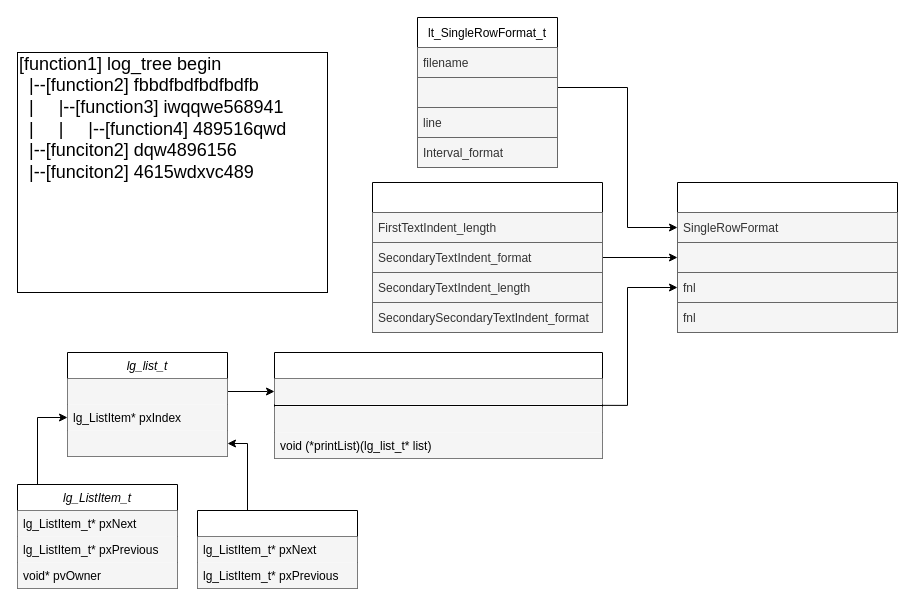
Some shapes in this 915 by 609 pixel diagram are drawn without their labels. Each missing label, with the box of its shape:
Founction_Name_List_t: (274, 352, 602, 458)
function: (416, 76, 558, 108)
lg_list_t list: (274, 378, 602, 404)
lg_MiniListItem_t: (196, 510, 358, 588)
lg_MiniListItem_t ListEnd: (67, 430, 227, 456)
lt_core_t: (676, 182, 898, 332)
lt_MultipleLineFormat_t: (372, 182, 602, 332)
MultipleLineFormat: (676, 242, 898, 272)
uint32 NumberOfItems: (67, 378, 227, 404)
uint32_t (*UpdataList)(lg_list_t* Fnl, char* FounctionName): (274, 406, 602, 432)
